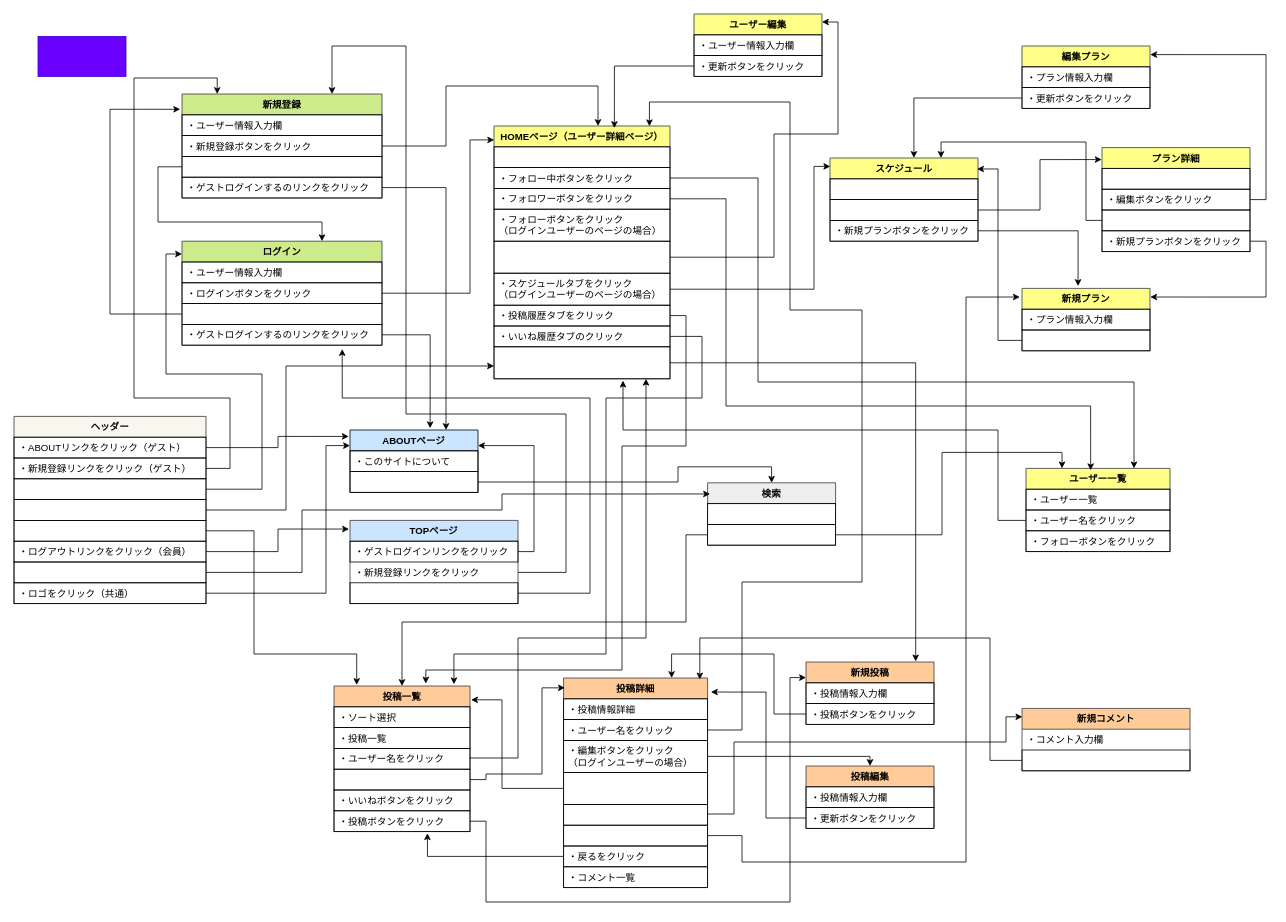
Image size: 1286x922. Some labels were removed from this diagram. Here are the shapes that lost their labels. From the top down, the centre of each, then its label:
At point (81, 56): "ユーザー".
At point (281, 166): "・ログインページへのリンクをクリック".
At point (581, 157): "・ユーザー情報詳細".
At point (903, 189): "・プラン一覧".
At point (1175, 178): "・プラン情報詳細".
At point (903, 209): "・プランをクリック".
At point (1175, 220): "・削除ボタンをクリック".
At point (581, 256): "・編集ボタンをクリック （ログインユーザーのページの場合）".
At point (281, 313): "・新規登録ページへのリンクをクリック".
At point (1085, 340): "・作成ボタンをクリック".
At point (581, 362): "・投稿ボタンのクリック （ログインユーザーの場合)".
At point (109, 489): "・ログインリンクをクリック（ゲスト）".
At point (413, 481): "・検索リンクをクリック".
At point (109, 509): "・HOMEリンクをクリック（会員）".
At point (771, 513): "・検索条件入力欄".
At point (109, 530): "・投稿一覧をクリック（会員）".
At point (771, 534): "・検索ボタンをクリック".
At point (109, 572): "・検索リンクをクリック（共通）".
At point (433, 593): "・ログインリンクをクリック".
At point (401, 779): "・投稿をクリック".
At point (1105, 760): "・コメントするのボタンをクリック".
At point (635, 788): "・削除 ボタンをクリック （ログインユーザーの場合）".
At point (635, 814): "・コメントボタンをクリック".
At point (635, 835): "・planボタンをクリック".
